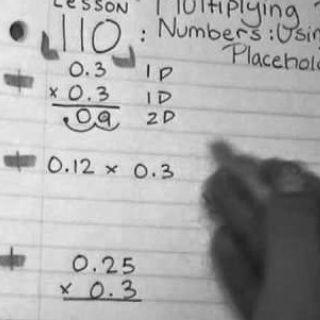.: (63, 165, 71, 174), (86, 94, 93, 103), (150, 170, 158, 177), (84, 69, 90, 75)
0: (66, 58, 84, 79), (131, 159, 149, 179), (71, 253, 89, 273), (66, 84, 84, 102), (47, 154, 63, 174)
1: (71, 157, 79, 175)
2: (79, 156, 97, 175)
3: (160, 160, 176, 180), (95, 83, 111, 102), (94, 60, 107, 79)
5: (121, 255, 136, 275)
